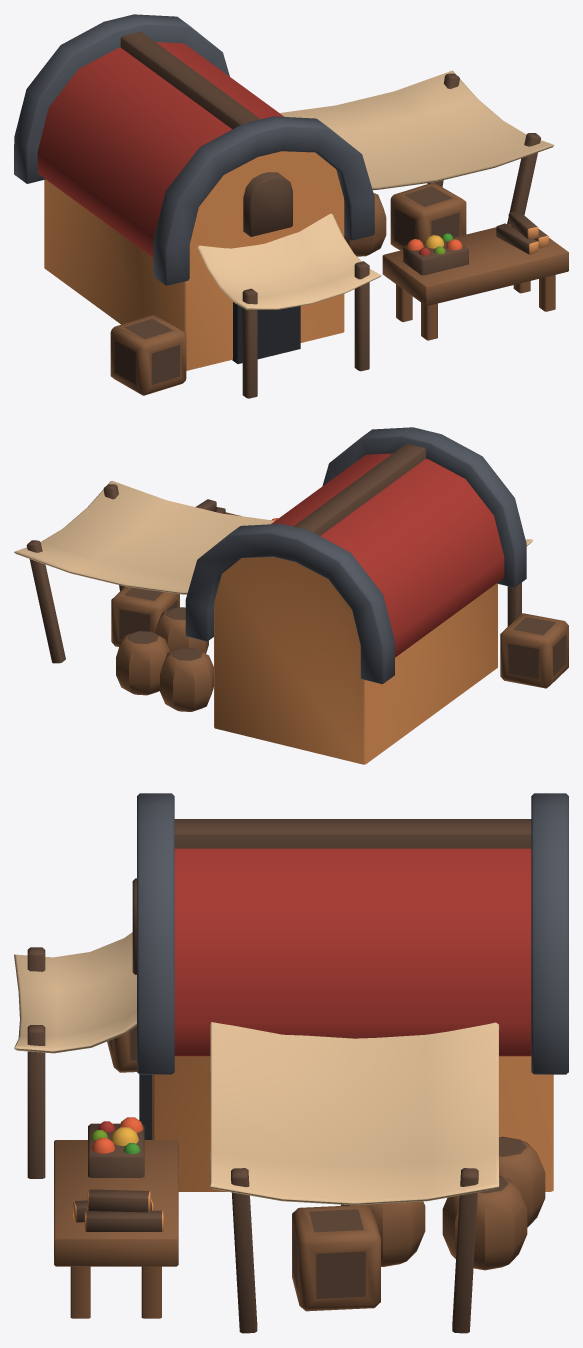
Rendered from Market.fbx.
3 renders of one model, top to bottom at view 1: azimuth 30°, elevation 25°; view 2: azimuth 150°, elevation 25°; view 3: azimuth 270°, elevation 25°, orthographic. The views are drawn at different scales.
Parts seen in each view (by area): view 1: Cube.1158, Cube.1170, Cube.1159, Plane.068, Plane.067, Cube.1164, Cube.1553, Cube.1552, Cube.1169, Cube.1161, Cube.1160, Cube.1162 (+5 smaller); view 2: Cube.1158, Cube.1170, Cube.1159, Plane.068, Cube.1553, Cube.1169, Cylinder.330, Cylinder.331, Cube.1552, Cube.1163, Cylinder.329, Cube.1161; view 3: Cube.1170, Plane.068, Cube.1159, Cube.1164, Cube.1158, Plane.067, Cube.1169, Cube.1552, Cube.1163, Cylinder.331, Cube.1161, Cylinder.329 (+6 smaller).
Boxes of the visible parts, bbox=[...] form: Cube.1158: bbox=[44, 151, 344, 370]; Cube.1170: bbox=[37, 42, 284, 257]; Cube.1159: bbox=[14, 14, 374, 285]; Plane.068: bbox=[280, 70, 554, 190]; Plane.067: bbox=[197, 213, 381, 309]; Cube.1164: bbox=[382, 224, 568, 340]; Cube.1553: bbox=[110, 314, 186, 395]; Cube.1552: bbox=[390, 182, 466, 250]; Cube.1169: bbox=[120, 31, 260, 129]; Cube.1161: bbox=[242, 261, 369, 398]; Cube.1160: bbox=[243, 172, 292, 236]; Cube.1162: bbox=[232, 302, 300, 363]; Cube.1158: bbox=[214, 557, 497, 764]; Cube.1170: bbox=[271, 453, 504, 657]; Cube.1159: bbox=[185, 427, 526, 684]; Plane.068: bbox=[14, 481, 274, 594]; Cube.1553: bbox=[500, 613, 568, 688]; Cube.1169: bbox=[293, 443, 425, 535]; Cylinder.330: bbox=[160, 647, 213, 711]; Cylinder.331: bbox=[116, 631, 170, 695]; Cube.1552: bbox=[111, 586, 179, 646]; Cube.1163: bbox=[26, 484, 124, 663]; Cylinder.329: bbox=[154, 607, 208, 653]; Cube.1161: bbox=[507, 582, 521, 626]; Cube.1170: bbox=[174, 848, 531, 1056]; Plane.068: bbox=[210, 1022, 499, 1205]; Cube.1159: bbox=[137, 793, 568, 1074]; Cube.1164: bbox=[54, 1140, 178, 1318]; Cube.1158: bbox=[152, 1056, 553, 1191]; Plane.067: bbox=[14, 932, 136, 1053]; Cube.1169: bbox=[174, 819, 531, 848]; Cube.1552: bbox=[292, 1204, 380, 1311]; Cube.1163: bbox=[231, 1168, 478, 1333]; Cylinder.331: bbox=[442, 1176, 527, 1270]; Cube.1161: bbox=[27, 947, 45, 1178]; Cylinder.329: bbox=[341, 1201, 425, 1266].
Bounding box in the file's own units: 191 × 92.08 × 143.
